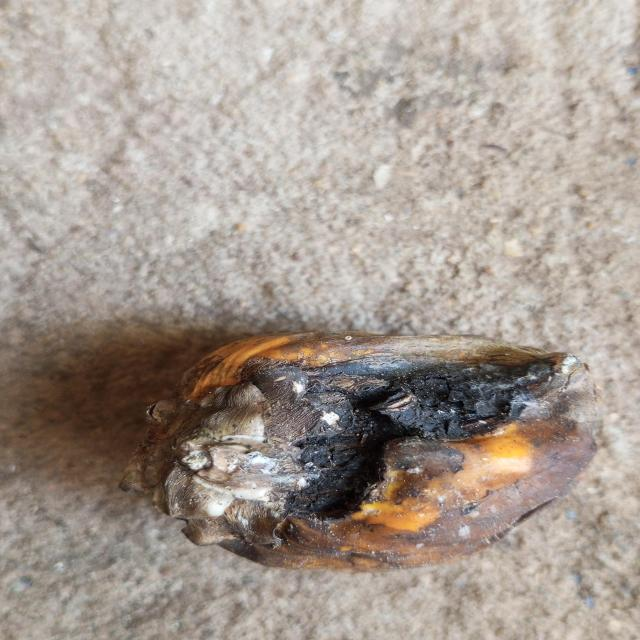damaged: (127, 335, 598, 577)
